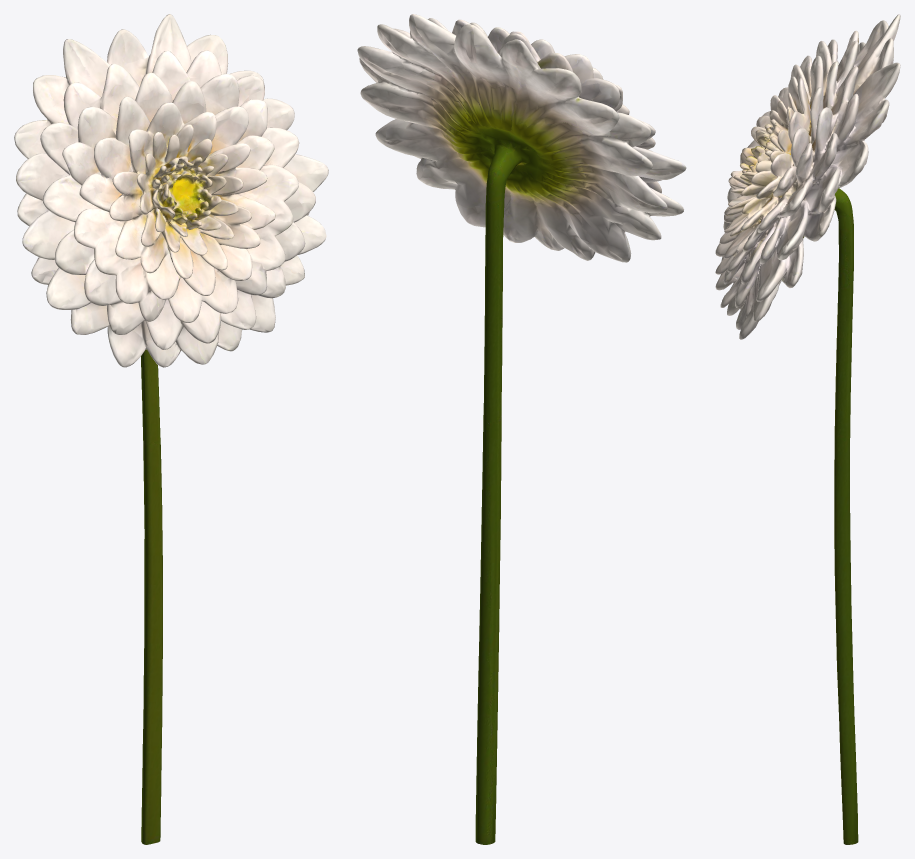
The model's file is white_dahlia.glb.
3 views of the same model, side by side, from view 1: azimuth 30°, elevation 25°; view 2: azimuth 150°, elevation 25°; view 3: azimuth 270°, elevation 25° (orthographic). The views are drawn at different scales.
Visible parts, largest first — view 1: mesh_node; view 2: mesh_node; view 3: mesh_node.
Part boxes in pixels (box(x1,y1,x2,y2)): mesh_node: box(14, 14, 328, 844); mesh_node: box(357, 14, 686, 844); mesh_node: box(715, 14, 900, 844).
Size of the model in its own units: 0.7608 by 1.9 by 0.3992.
Materials: 1 (1 with a texture image).
